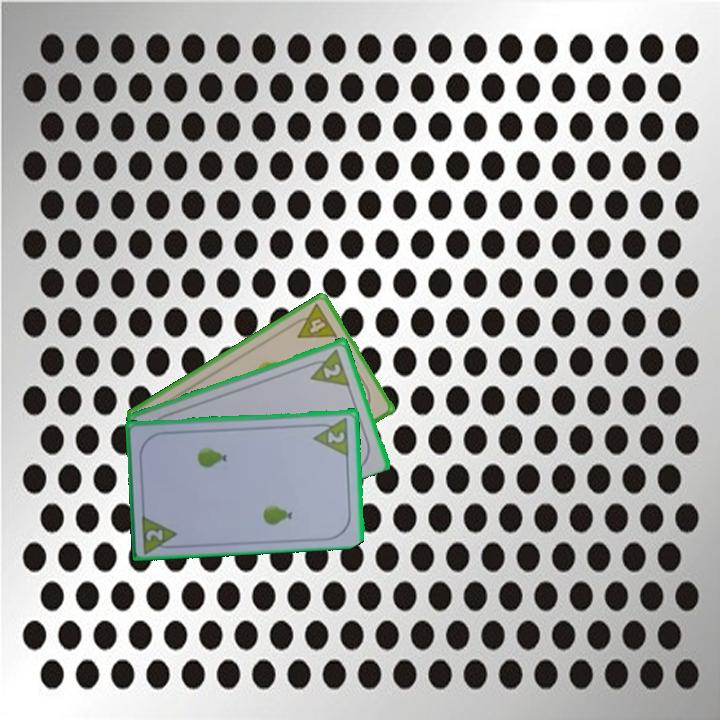2p: (138, 510, 181, 555), (310, 414, 352, 458), (320, 360, 344, 381)
4p: (287, 300, 340, 341)
